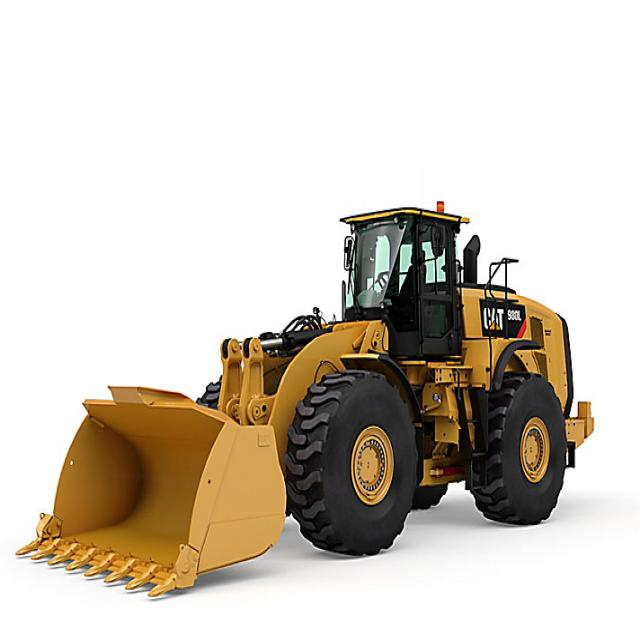buldozerpayloadergrader: (12, 196, 595, 600)
